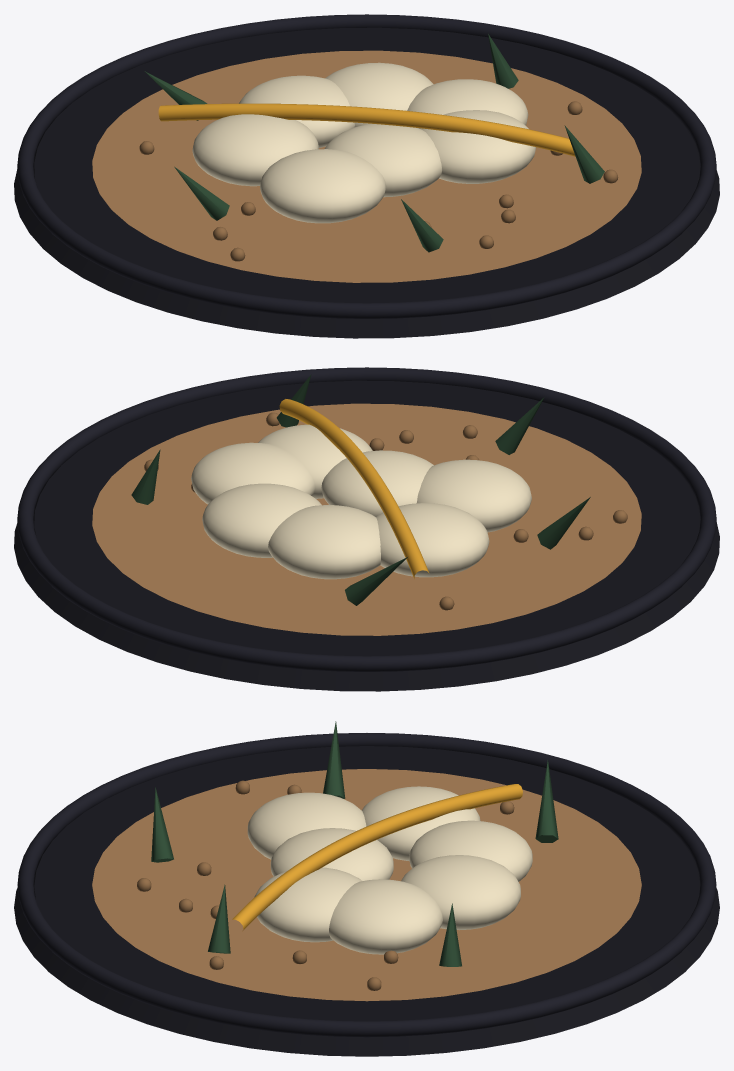
File: ravioles-chevre-miel.glb
3 views of the same model, one above another, from view 1: azimuth 30°, elevation 25°; view 2: azimuth 150°, elevation 25°; view 3: azimuth 270°, elevation 25° (orthographic).
Bounding box in the file's own units: 0.34 × 0.0456 × 0.34.
